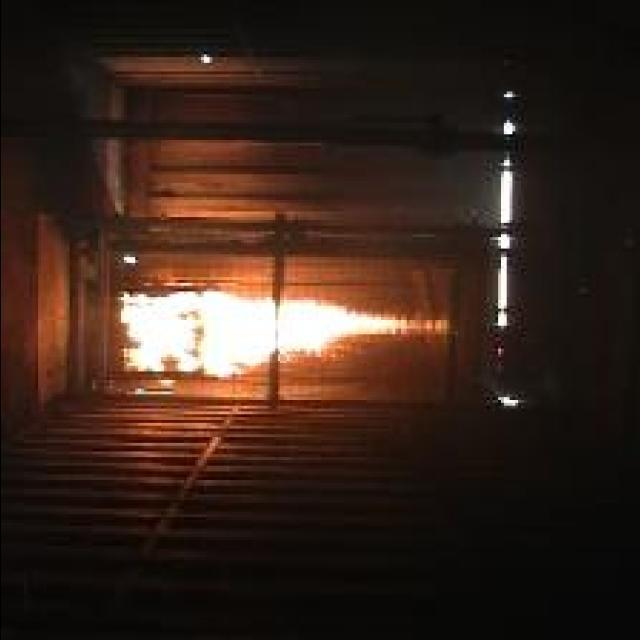Fire: (117, 291, 449, 378)
